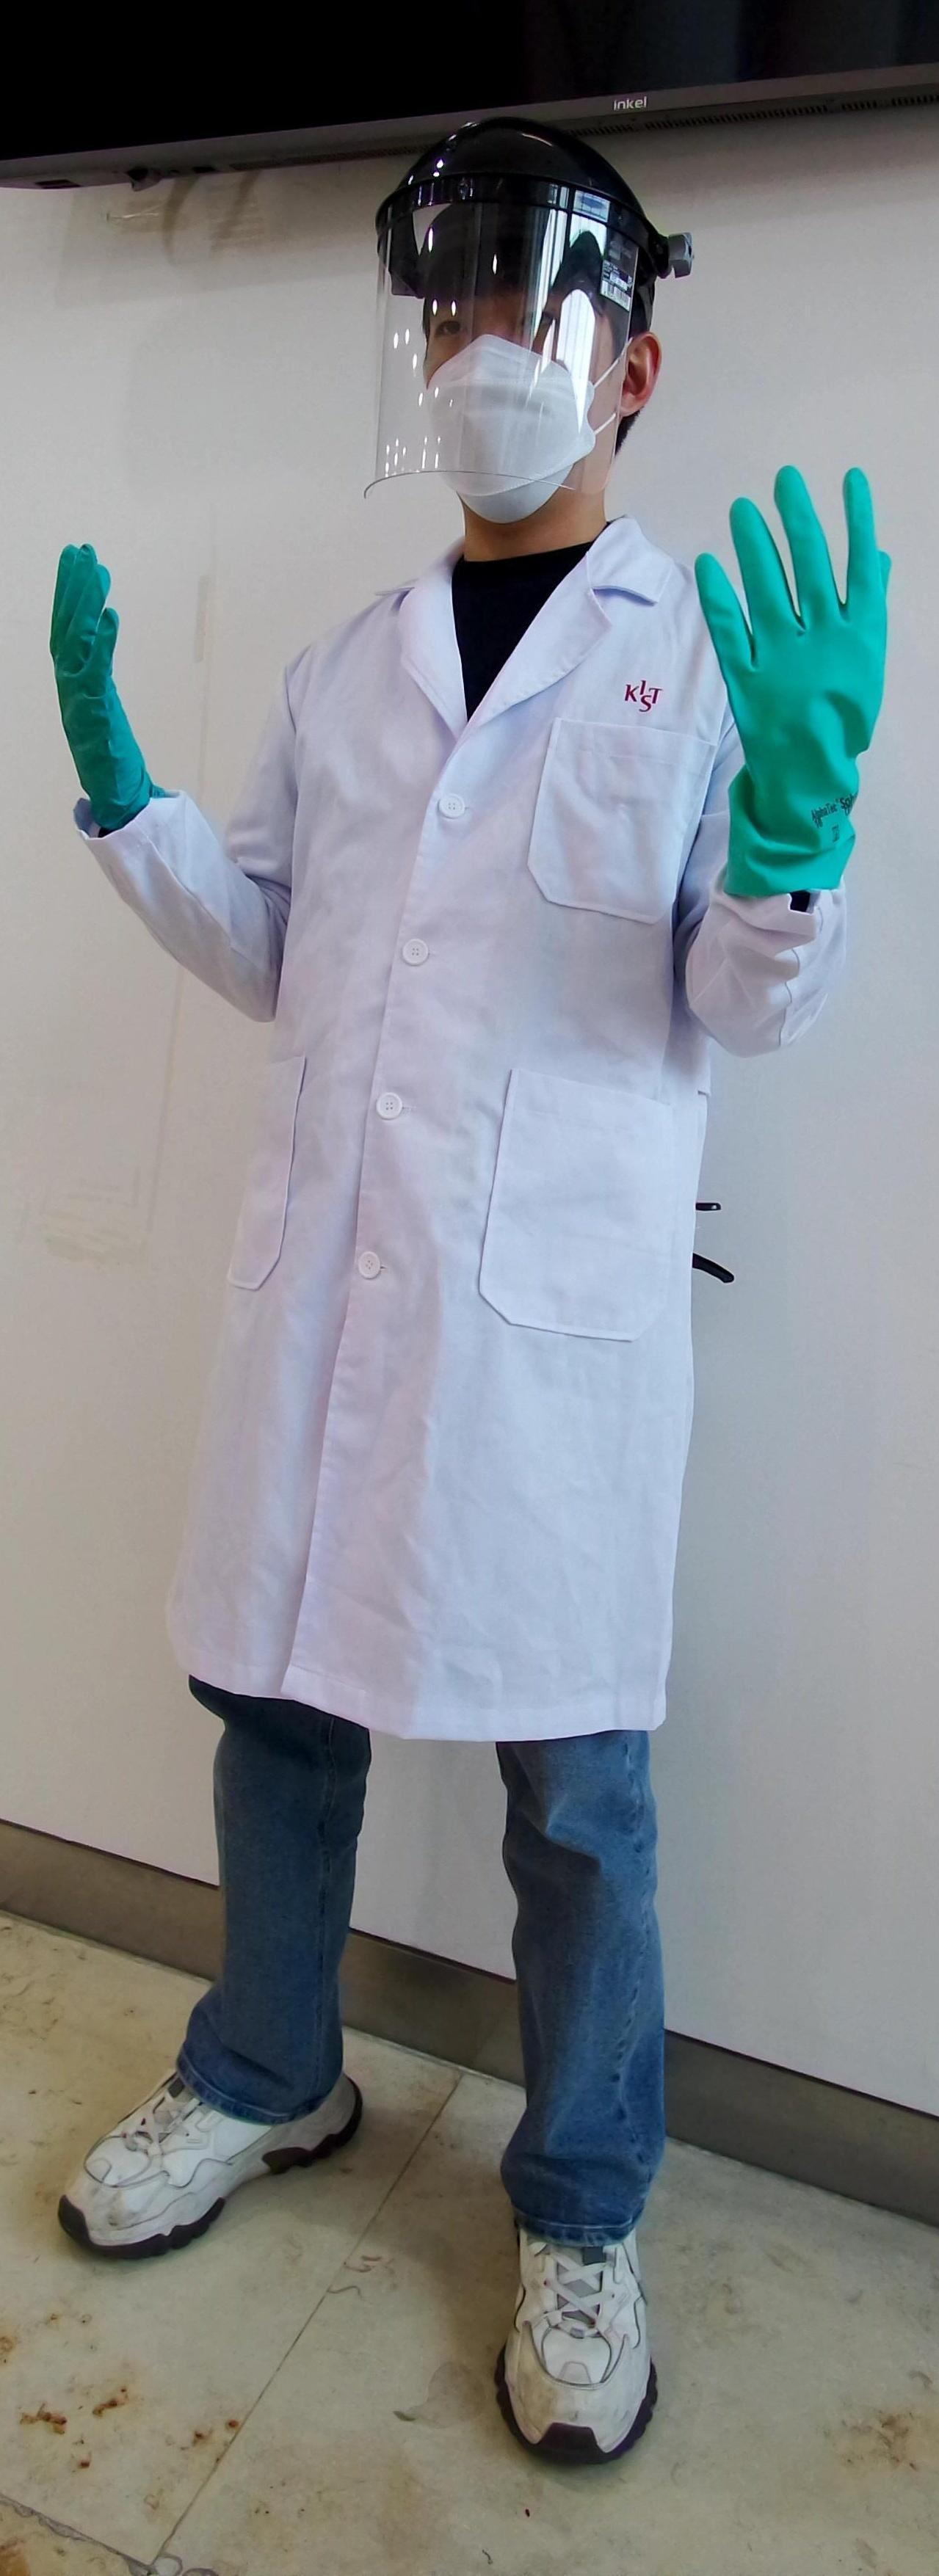lab_coat: (215, 582, 705, 1710)
